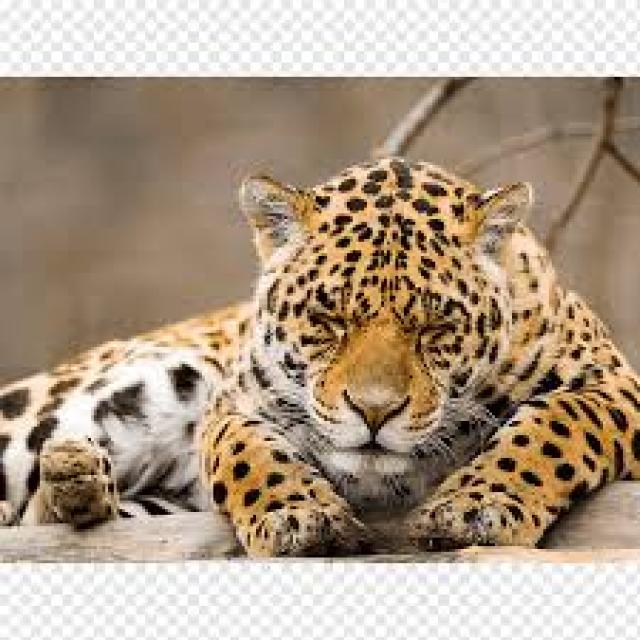Jaguar: (0, 151, 640, 549)
